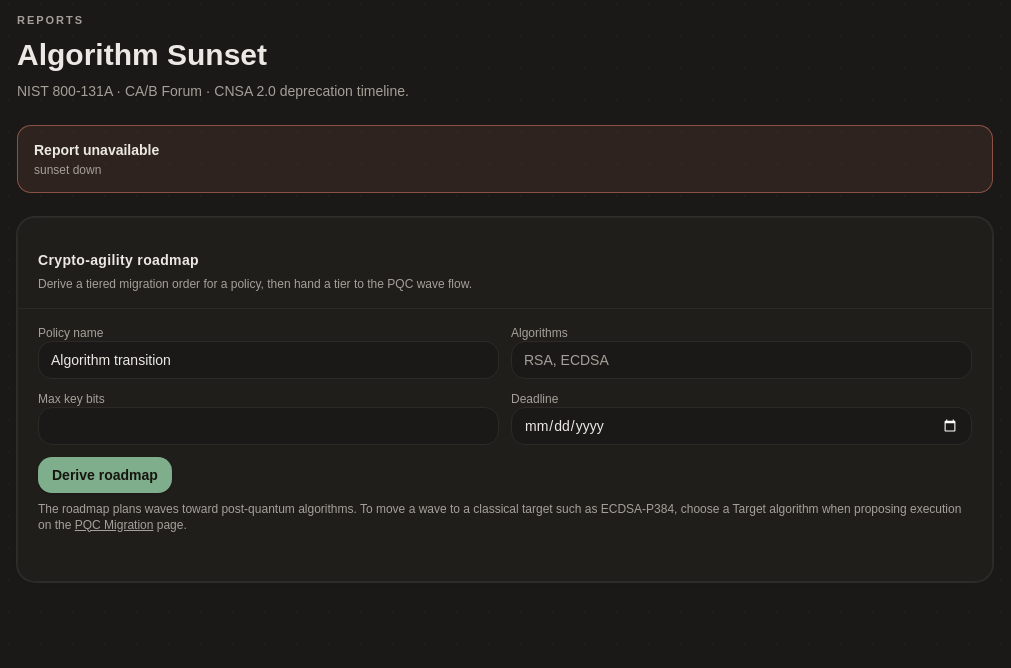
Scenario: Crypto-agility roadmap panel › empty policy shows the server 400 message
The image size is (1011, 668).
Click the button "Derive roadmap": (105, 474) top-left (38, 456), bottom-right (172, 492)
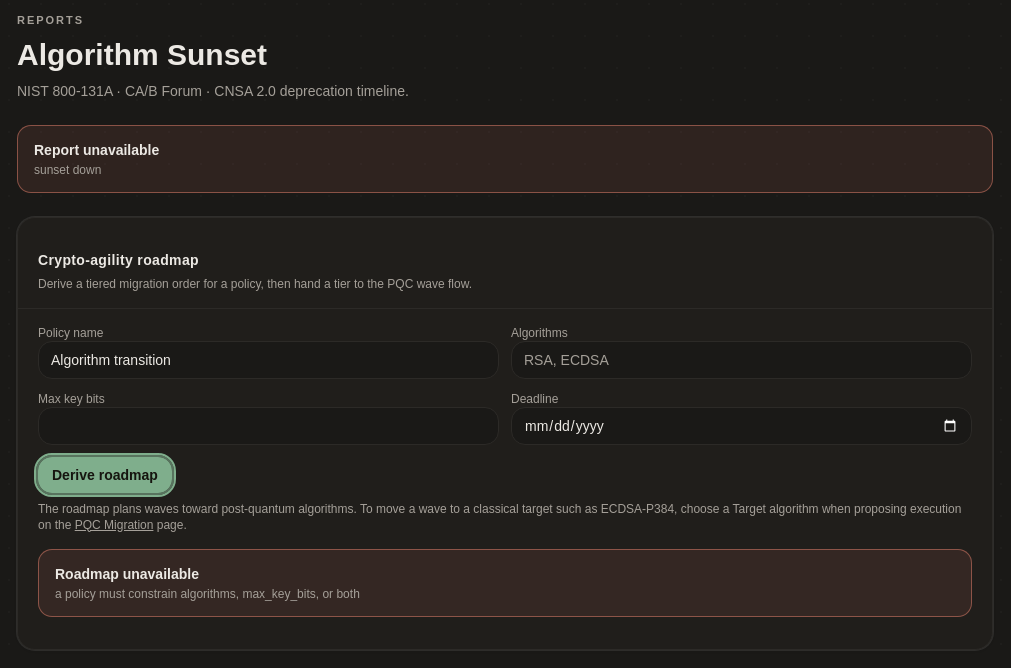
Expected: the text "a policy must constrain algorithms, max_key_bits, or both" is shown, top-left (55, 586), bottom-right (360, 602)
